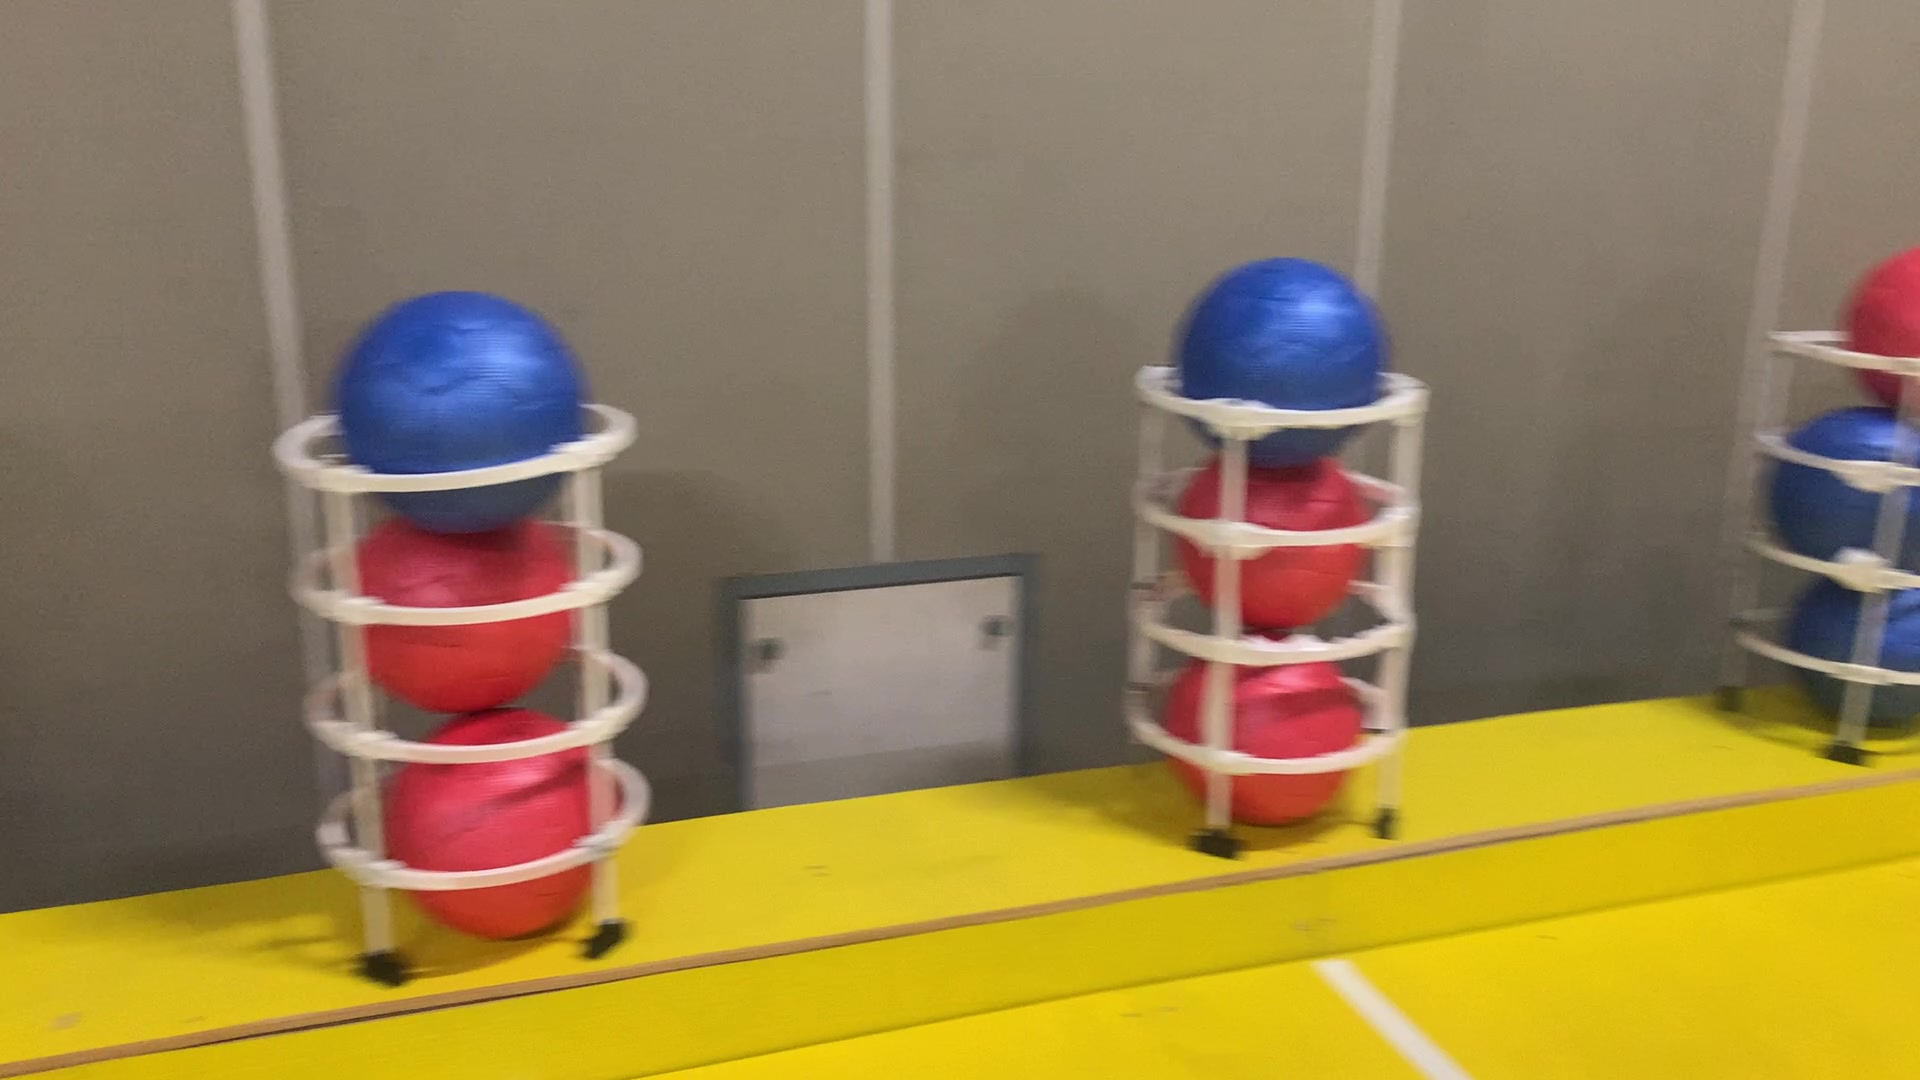blue: (336, 282, 599, 526), (1171, 255, 1393, 462), (1763, 398, 1920, 583), (1792, 542, 1920, 736)
red: (376, 708, 630, 944), (343, 509, 583, 725), (1176, 443, 1386, 637), (1171, 630, 1370, 831), (1841, 236, 1920, 433)
